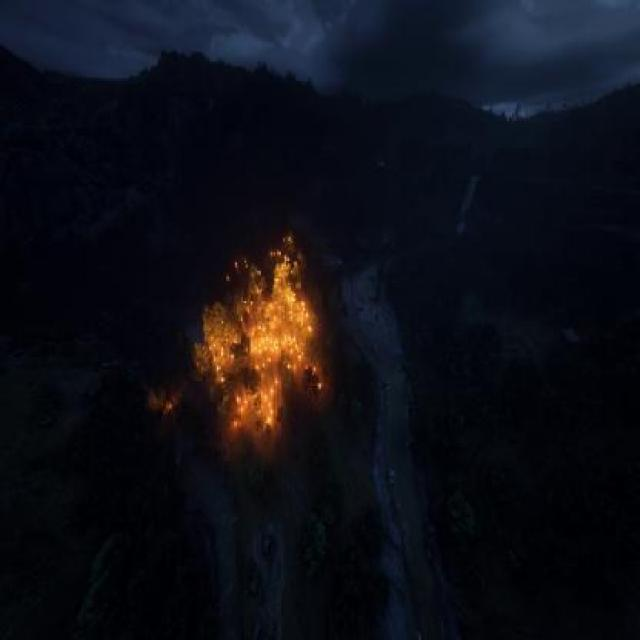Fire: (162, 218, 350, 458)
